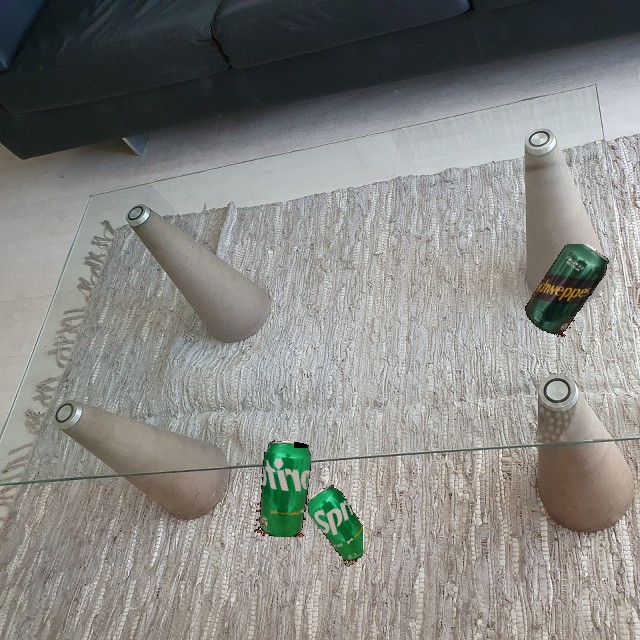schweppes: (520, 244, 612, 342)
sprite: (254, 439, 311, 537), (304, 485, 363, 567)
